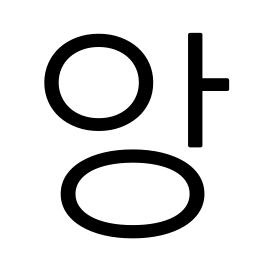Gaji: (175, 63, 220, 106)
